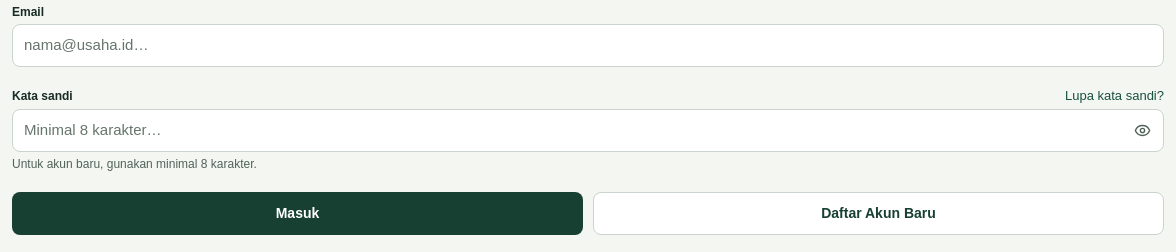
Scenario: LoginForm (password only; link only for forgot password) › forgot password: sends a reset link aimed at the change-password page and marks the browser
Type "pemilik@dapur.id" into the field labelled "Email". click: x=588, y=46
box: [12,24,1164,67]
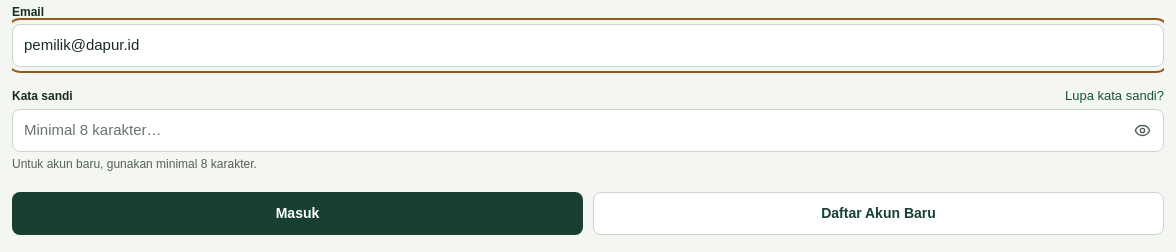
Click the button "Lupa kata sandi?". click: x=1114, y=96
box: [1065,86,1164,106]
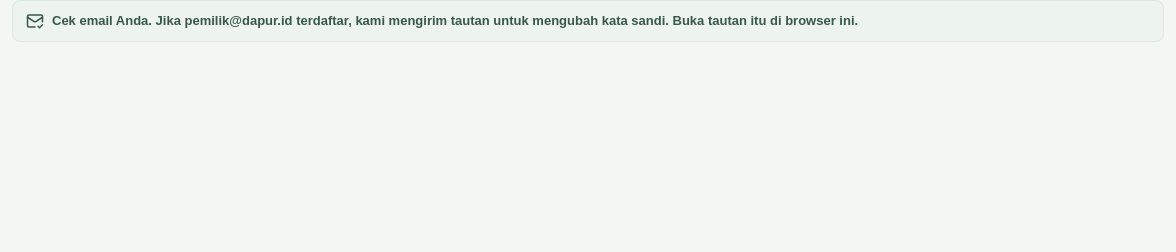
expect the text "tautan untuk mengubah kata sandi" is shown: met, box [156,13,858,28]
